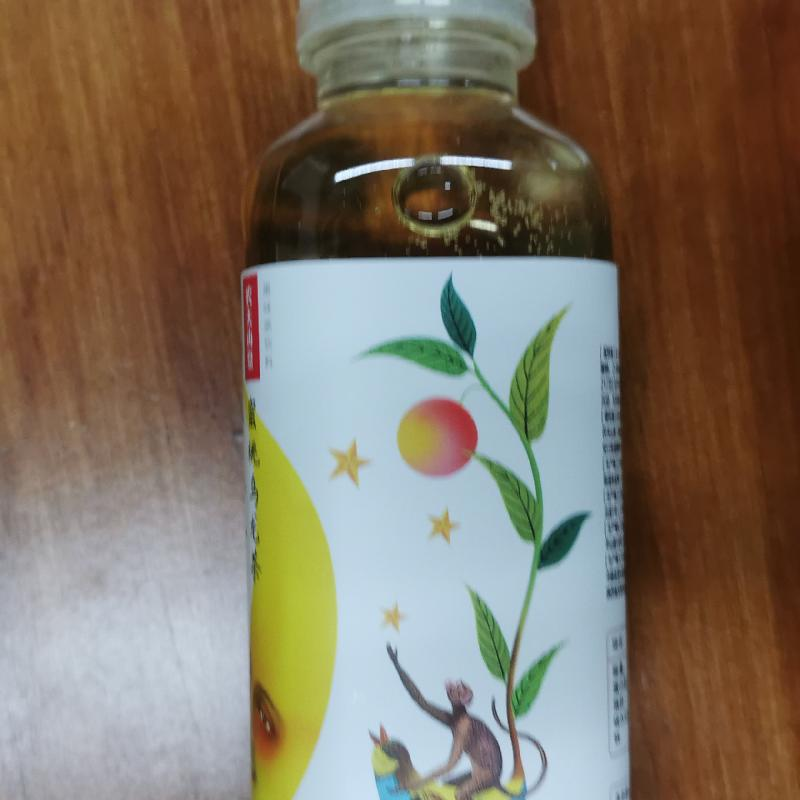bottles: (232, 2, 636, 799)
